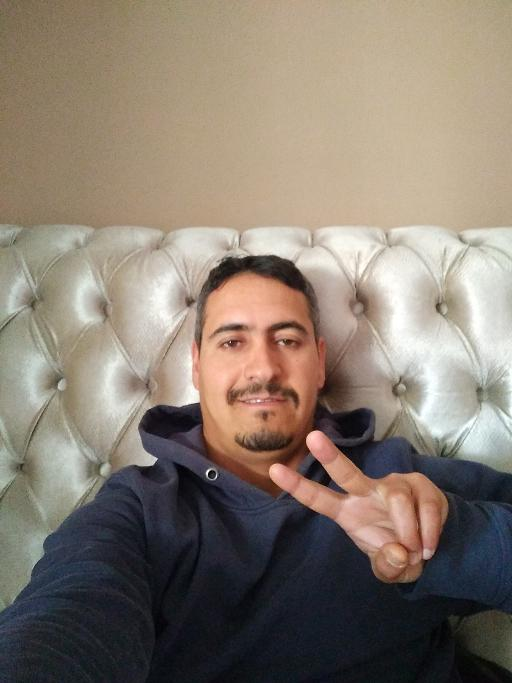peace: (266, 427, 452, 587)
